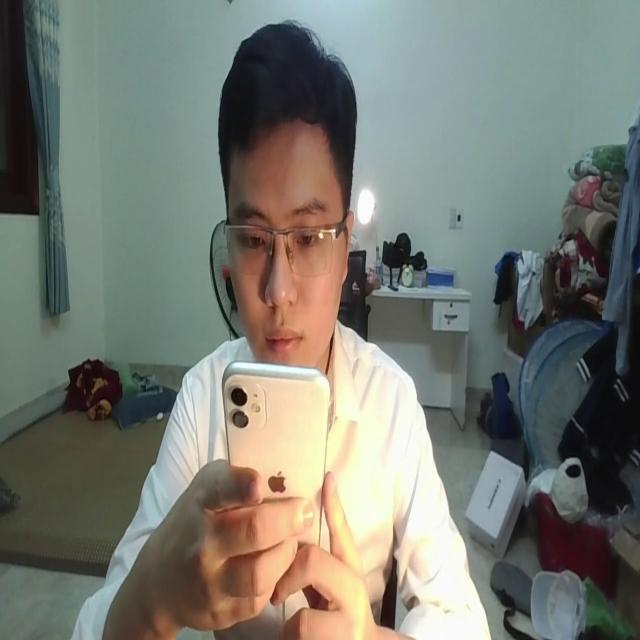phone: (218, 358, 328, 569)
student: (77, 26, 486, 640)
